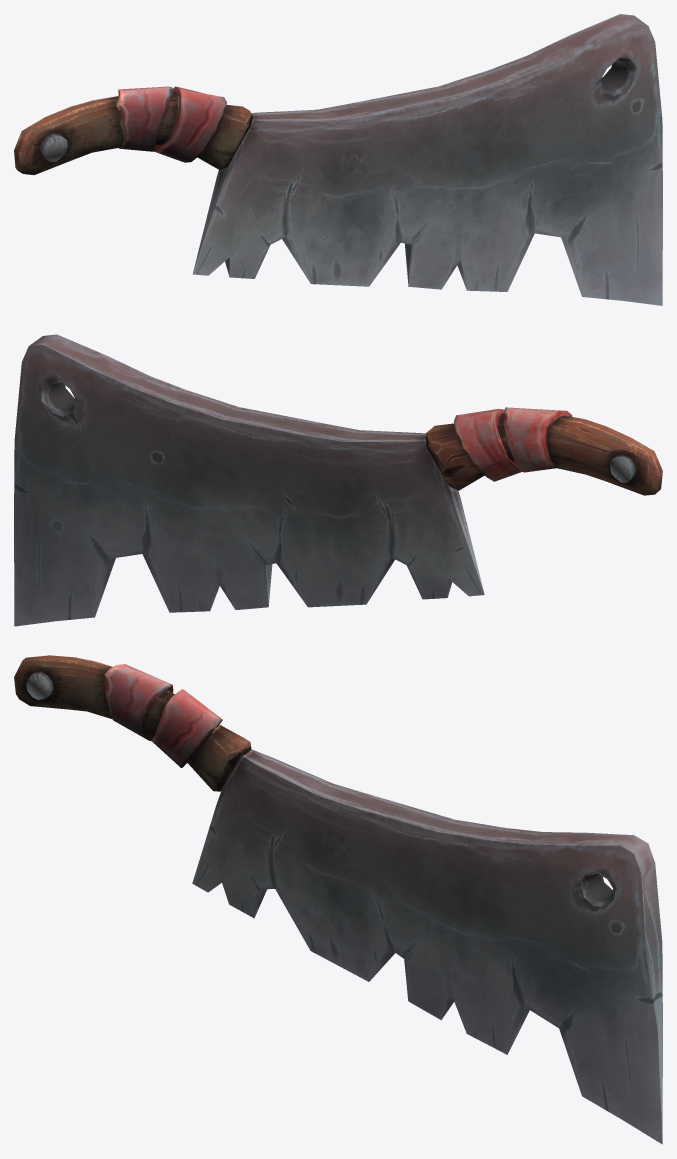
File: Knife.fbx
3 renders of one model, top to bottom at view 1: azimuth 30°, elevation 25°; view 2: azimuth 150°, elevation 25°; view 3: azimuth 330°, elevation 25°, orthographic.
Visible parts, largest first — view 1: Blade, Handle, Handle Cloth, Handle Metal; view 2: Blade, Handle, Handle Cloth, Handle Metal; view 3: Blade, Handle, Handle Cloth.
Boxes of the visible parts, x1=… form: Blade: x1=193, y1=14, x2=662, y2=305; Handle: x1=14, y1=94, x2=253, y2=175; Handle Cloth: x1=118, y1=86, x2=227, y2=162; Handle Metal: x1=40, y1=134, x2=67, y2=161; Blade: x1=14, y1=334, x2=484, y2=626; Handle: x1=425, y1=413, x2=662, y2=495; Handle Cloth: x1=454, y1=407, x2=572, y2=481; Handle Metal: x1=610, y1=455, x2=635, y2=482; Blade: x1=192, y1=749, x2=662, y2=1144; Handle: x1=14, y1=655, x2=251, y2=791; Handle Cloth: x1=104, y1=664, x2=222, y2=767.
Size of the model in its own units: 248 by 128 by 16.24.
1 material, 1 textured.
